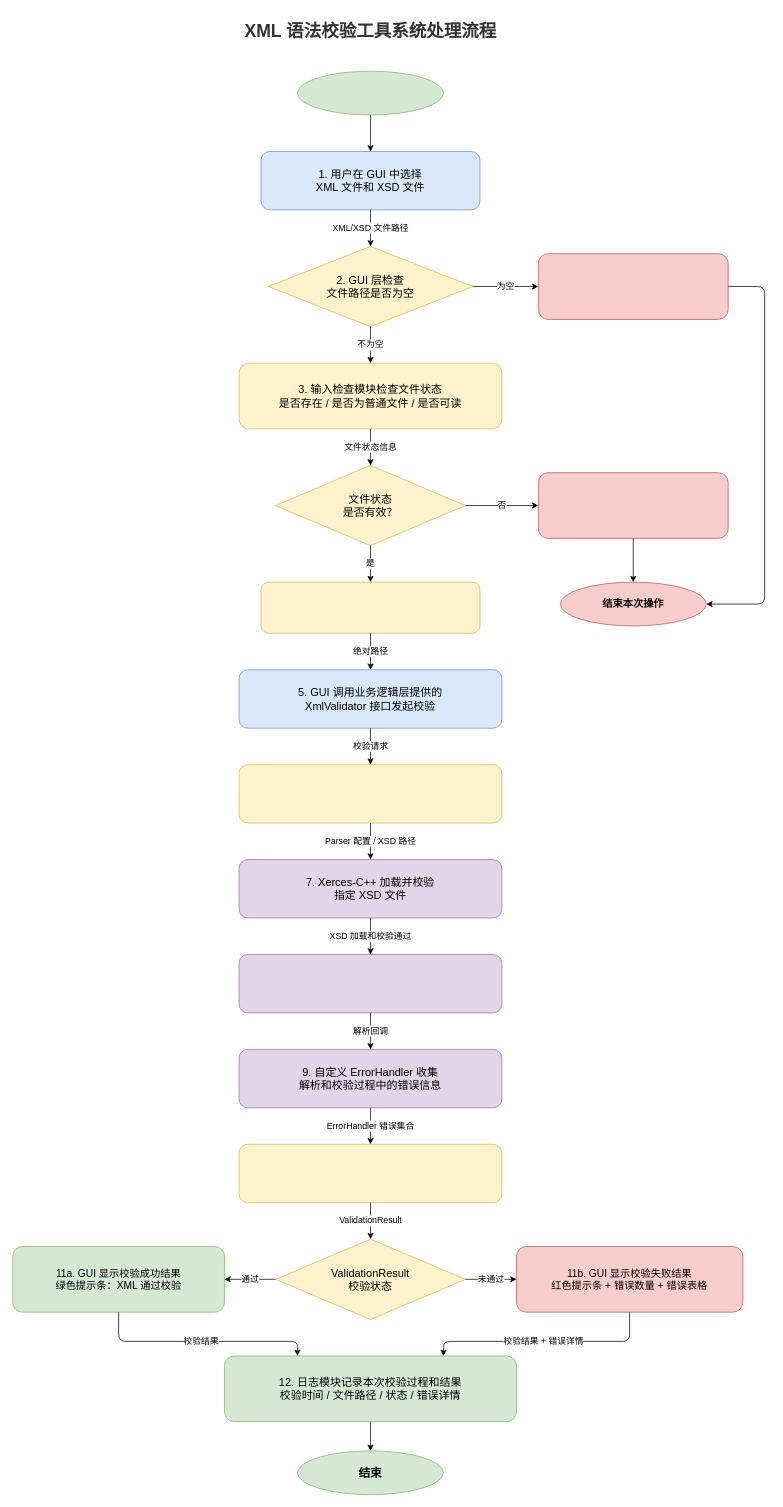
This 783x1507 diagram has some shape labels left out. Each missing label, with the centre of its shape:
"10. XmlValidator 将错误信息封装为 ValidationResult" goes at (x=370, y=1173).
"4. 路径统一转换为绝对路径" goes at (x=370, y=607).
"6. XmlValidator 初始化并配置 Xerces-C++ 解析器" goes at (x=370, y=793).
"8. Xerces-C++ 解析 XML 文件 并执行 Schema 校验" goes at (x=370, y=983).
"开始" goes at (x=370, y=92).
"提示用户补充选择文件 不发起校验" goes at (x=633, y=286).
"显示阻断性异常提示 如文件不存在、无权限等" goes at (x=633, y=505).
